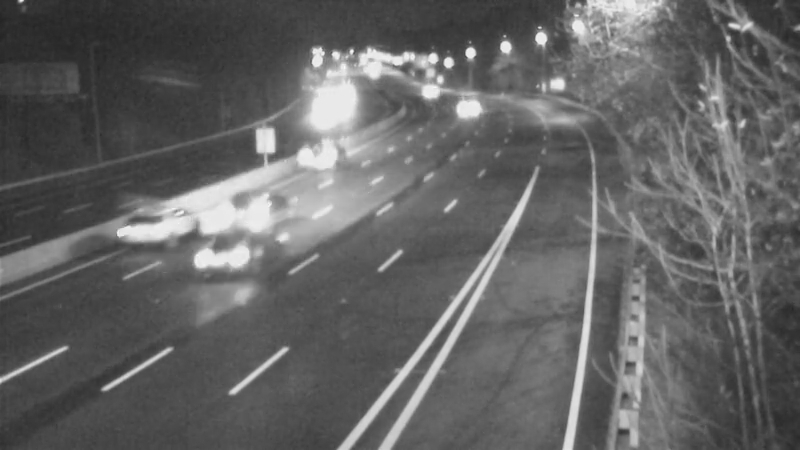vehicle: (290, 115, 370, 195), (216, 167, 296, 247), (94, 189, 174, 269), (170, 219, 250, 299), (402, 68, 452, 118), (439, 77, 489, 127), (296, 92, 346, 142)
